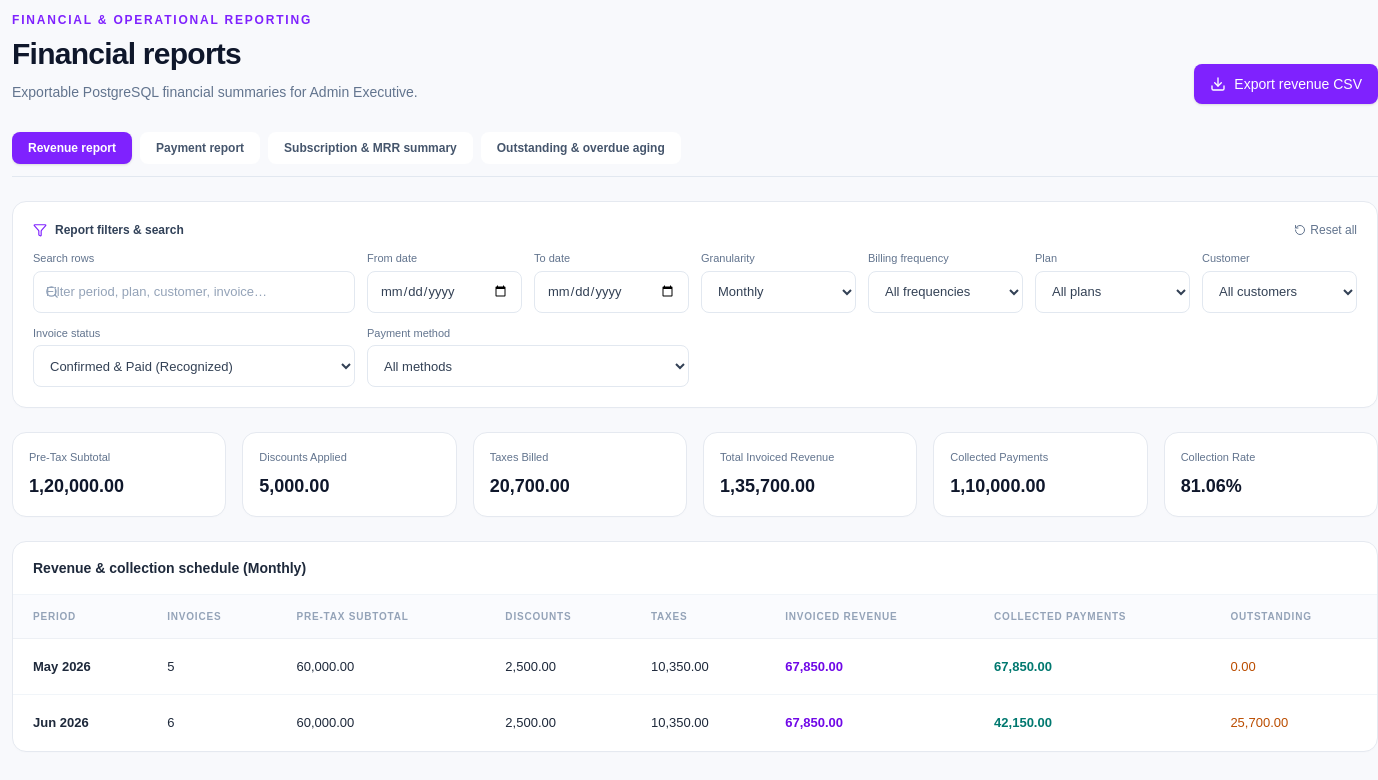
Test case: Phase 4 Executive Dashboard, Customer Portal & Financial Reports › renders financial reports screen and switches across all 4 report tabs
The image size is (1378, 780).
expect the text "May 2026" is shown: met, box [13,638,147,694]
expect the text "81.06%" is shown: met, box [1181,476,1242,496]
Click the button "Payment report" at (200, 148), box [140,132,260,164]
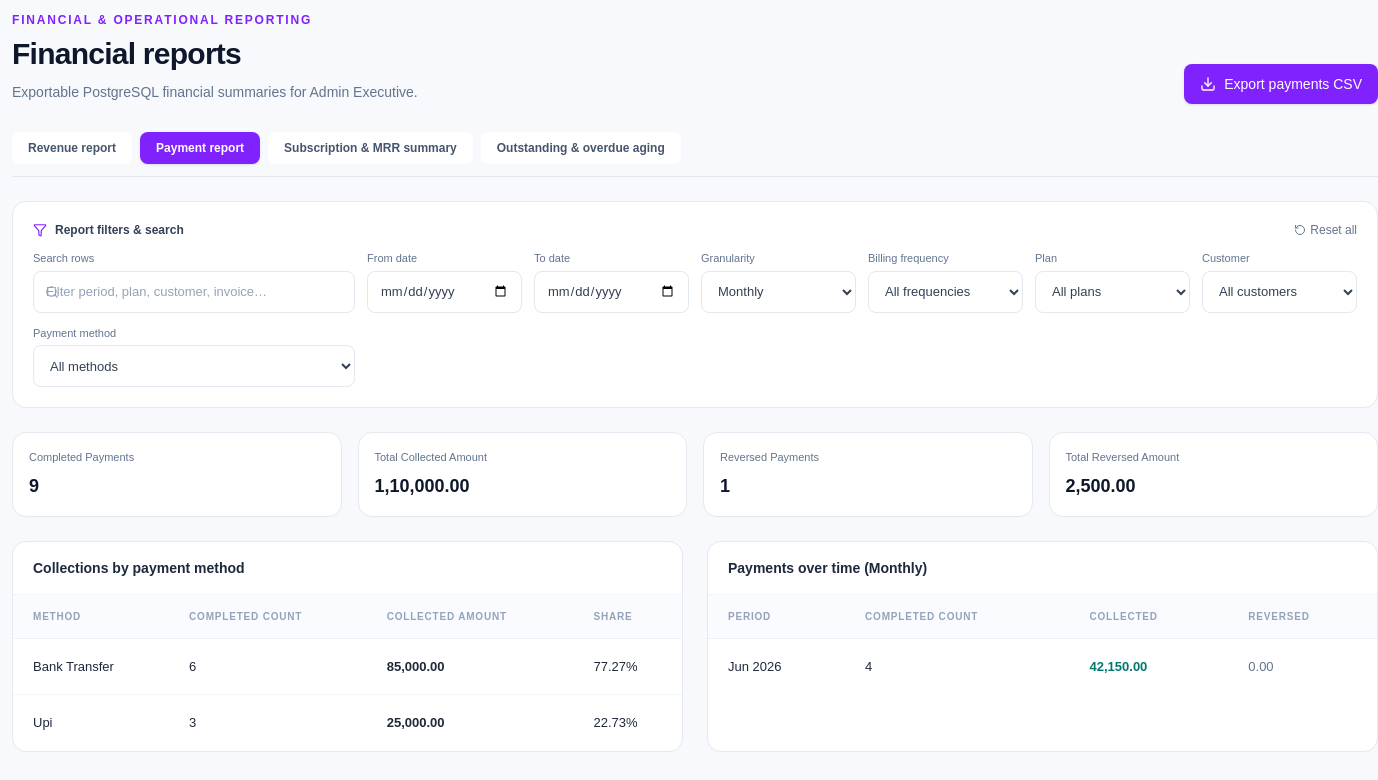
expect the text "77.27%" is shown: met, box [573,638,682,694]
Click the button "Subscription & MRR summary" at (370, 148), box [268,132,473,164]
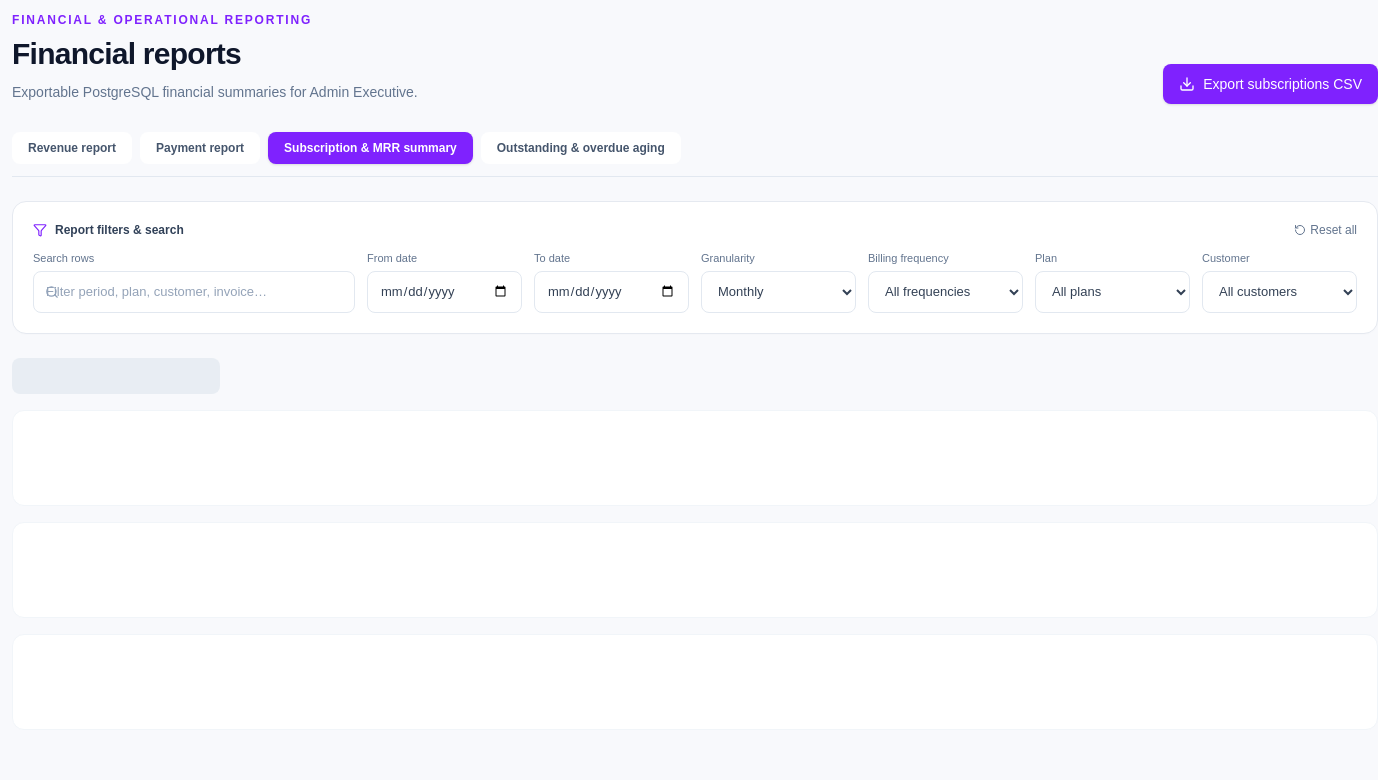
Click the button "Outstanding & overdue aging" at (581, 148), box [481,132,681,164]
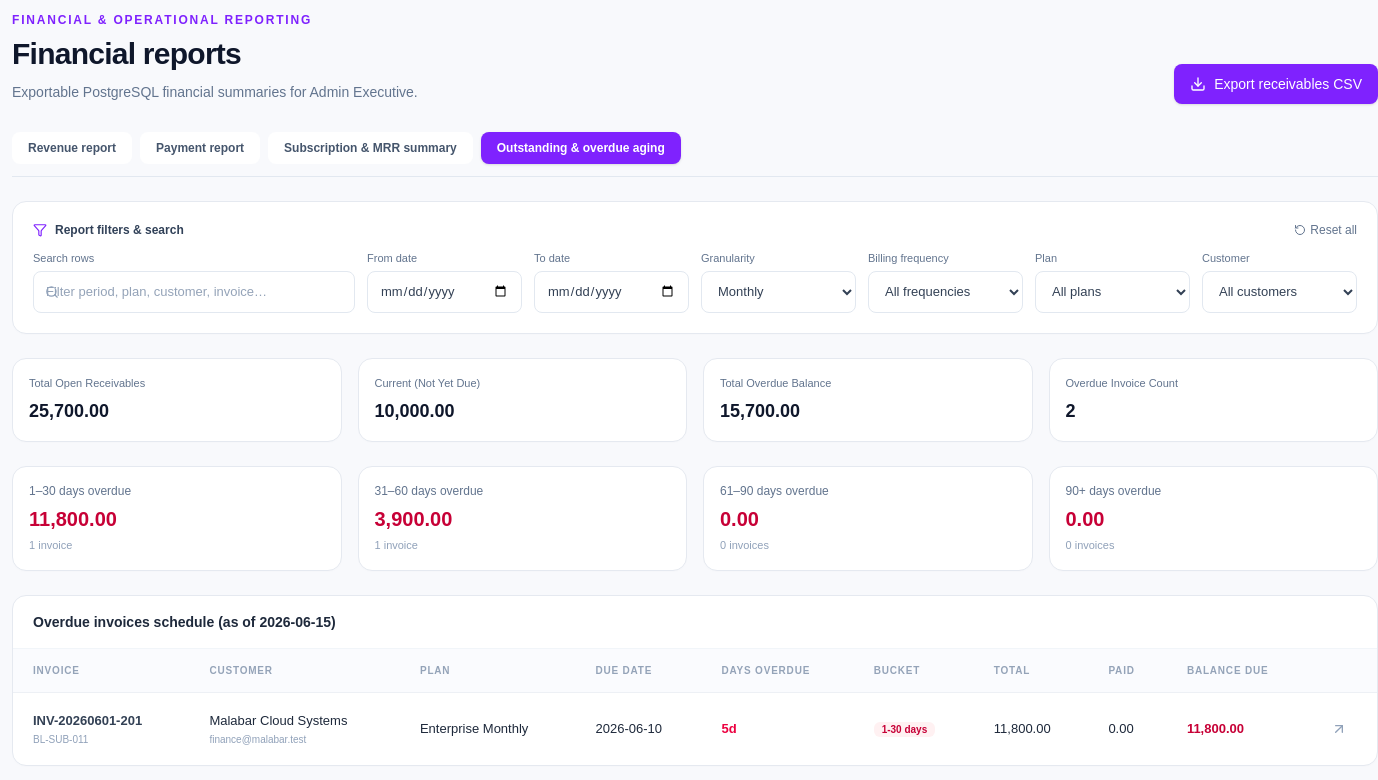
expect the link "INV-20260601-201" is shown: met, box [33,712,142,728]
expect the text "1–30 days overdue" is shown: met, box [29,484,131,498]
